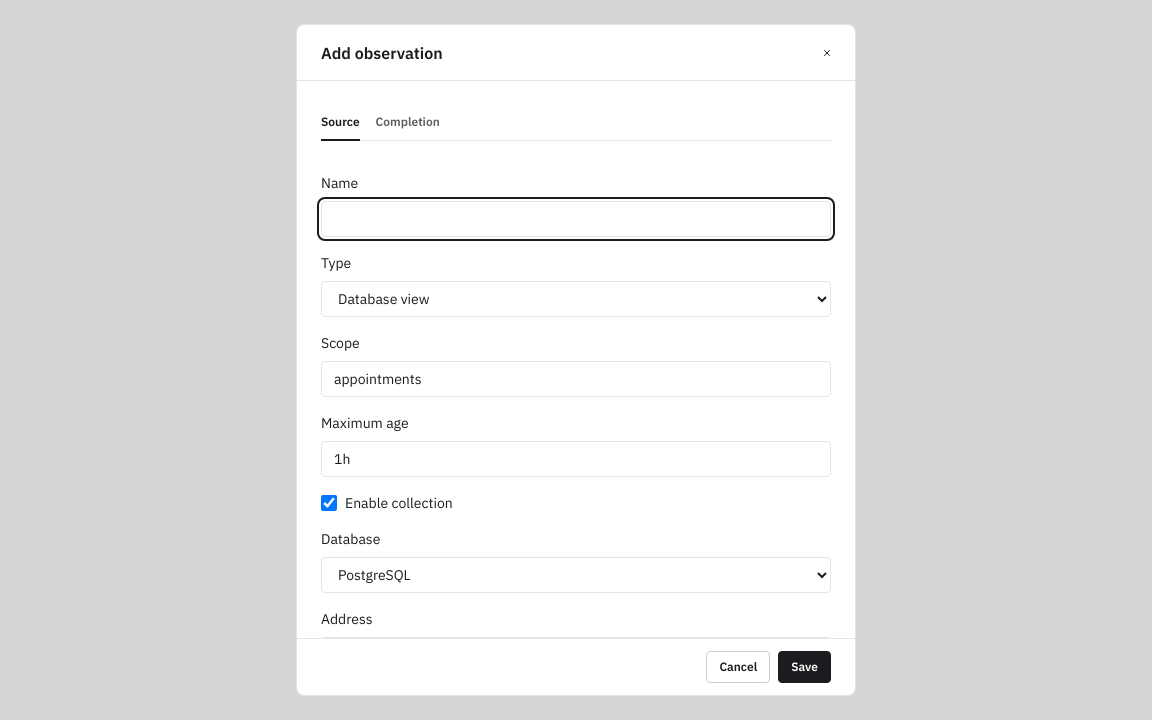
it: database projection repair retains its registered reference, business key and completion scope through a refused save
This screenshot has width=1152, height=720.
Type "Actual database fields" into the field labelled "Name".
click(576, 219); type("Actual database fields")  # box [321,201,831,237]
(page scrolled)
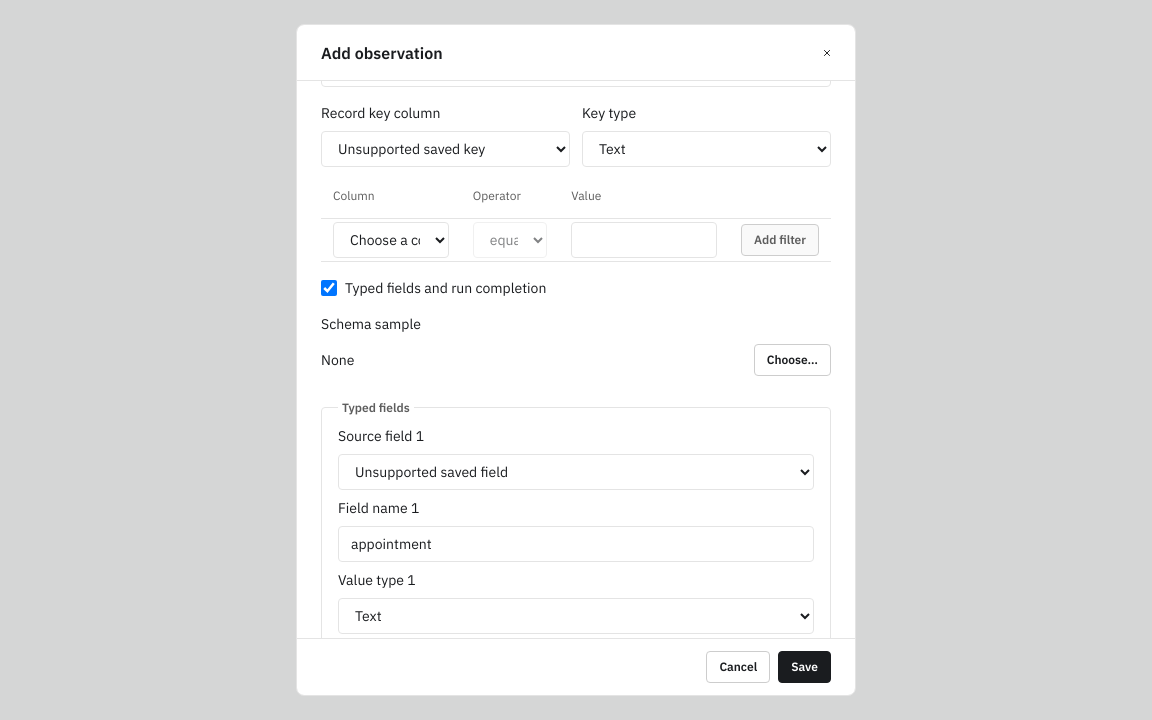
Click the button with aria-label "Choose schema sample".
click(792, 360)  # box [754,344,831,376]
(page scrolled)
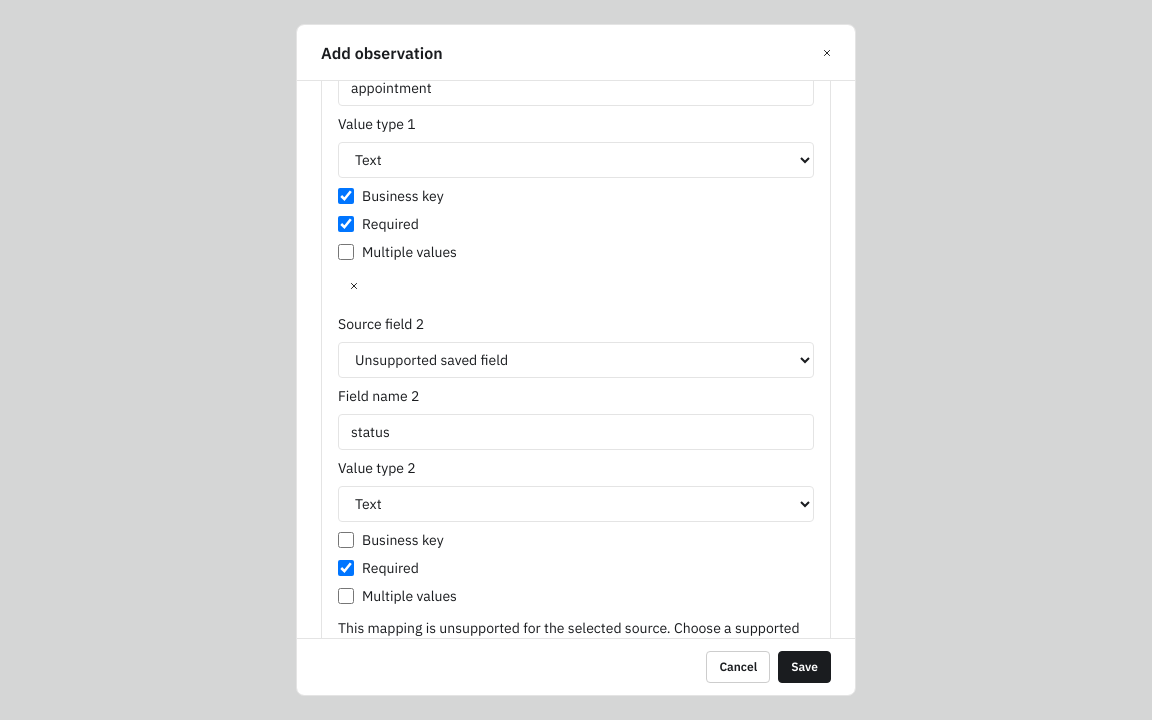
Select "status" in the dropdown labelled "Source field 2" at (576, 360), box [338,342,814,378]
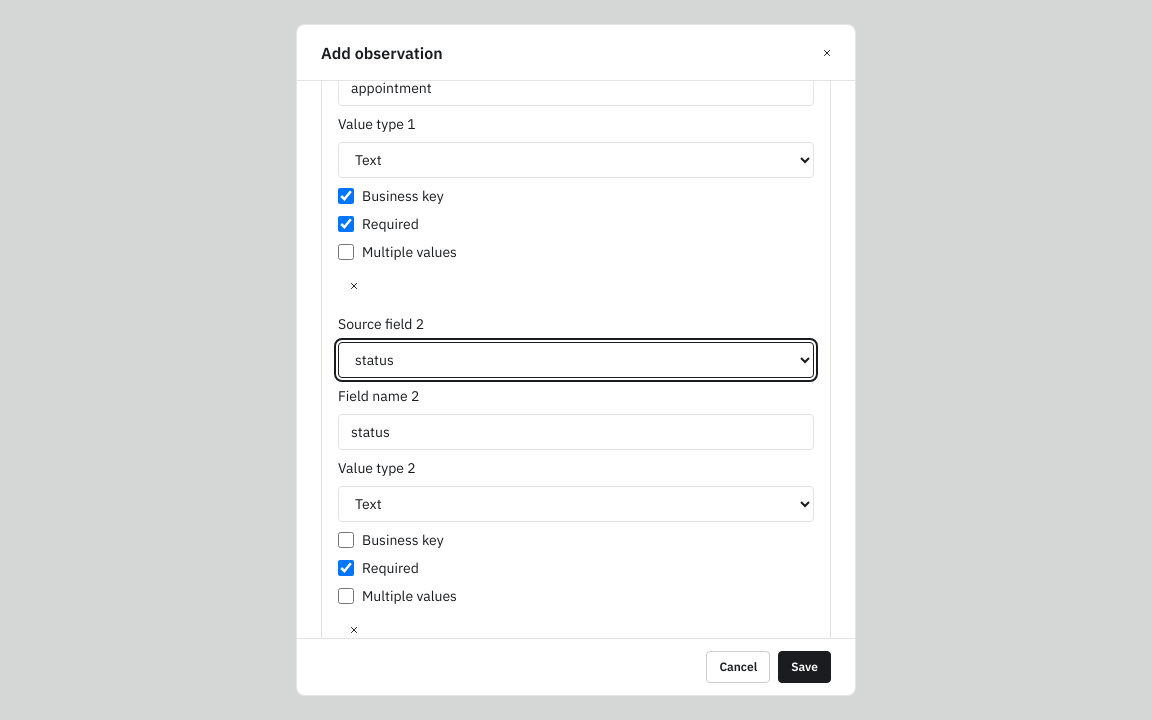
Click the button "Save".
click(805, 667)  # box [778,651,831,683]
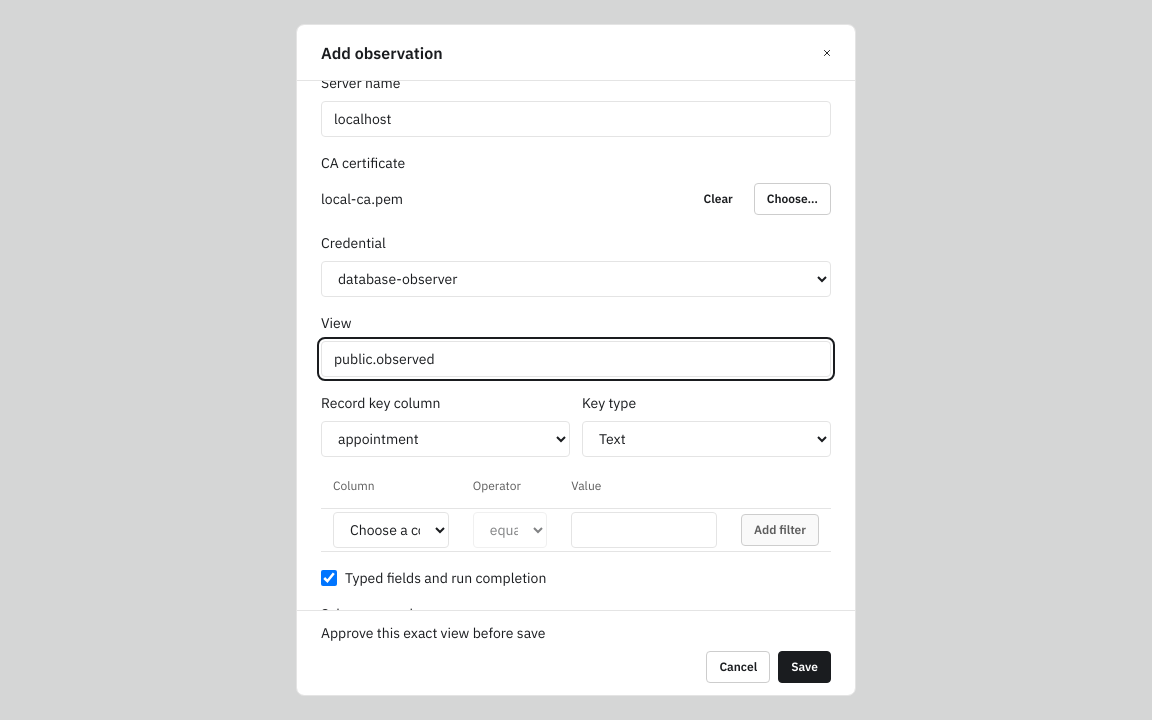
Expected: the text "Approve this exact view before save" is shown, [321,624,546,642]
